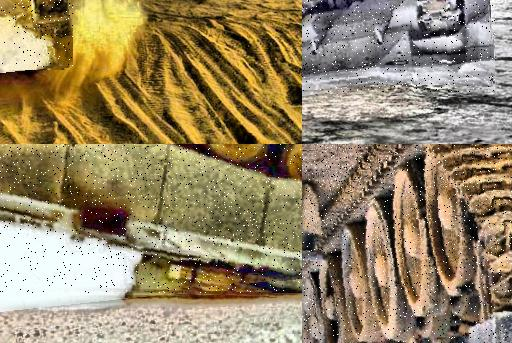tanks: (1, 145, 303, 294), (303, 145, 512, 343), (303, 1, 496, 92), (10, 1, 73, 68)
